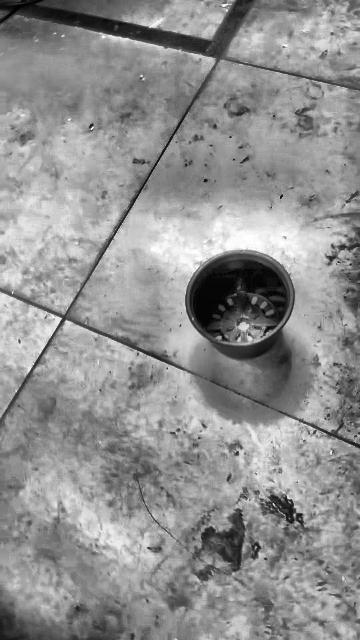pot: (185, 250, 294, 358)
